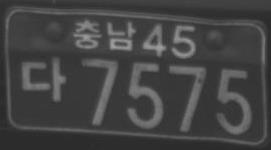5: (123, 60, 165, 130), (214, 66, 253, 137), (170, 24, 197, 60)
7: (78, 55, 120, 127), (167, 63, 208, 134)
다: (19, 55, 67, 103)
충남_O: (73, 18, 136, 52)
흐: (141, 21, 168, 59)
